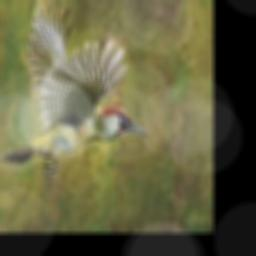Woodpecker: (0, 0, 147, 178)
